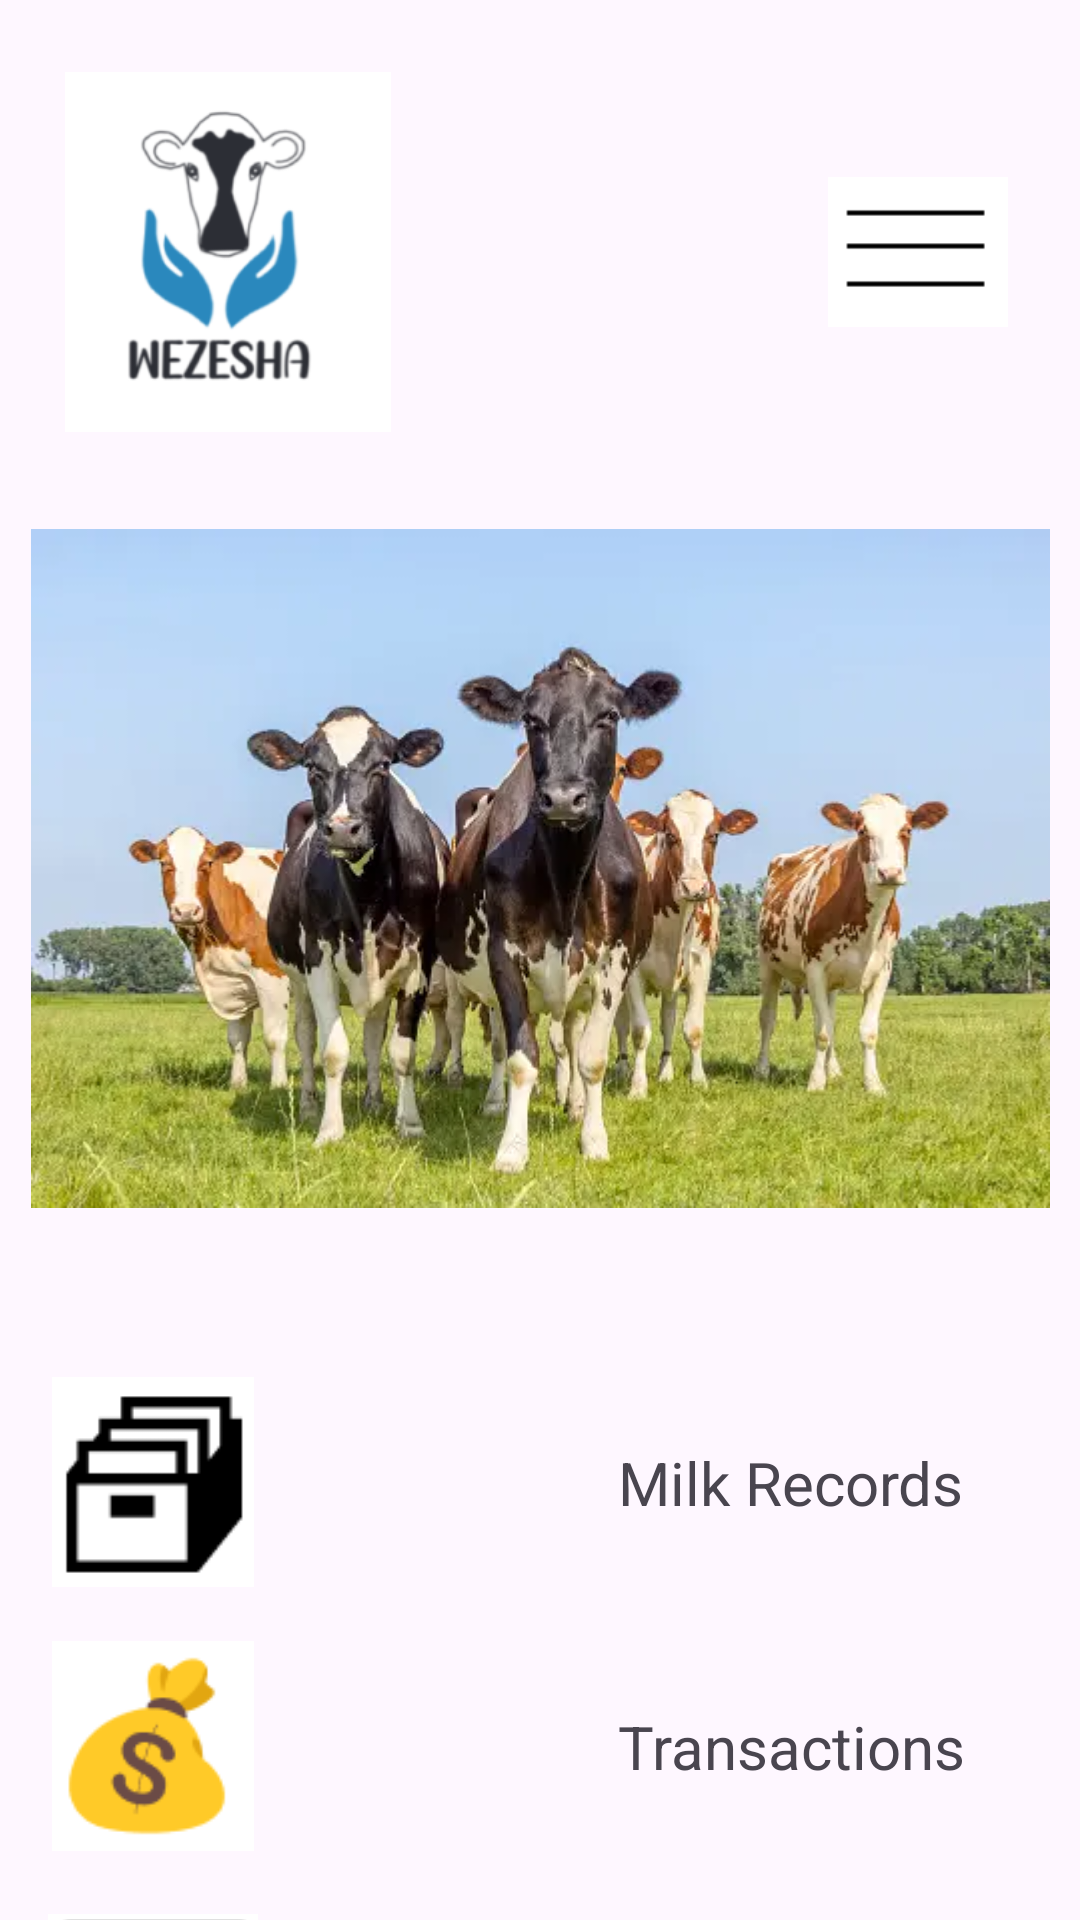

Icons on this 1080 x 1920 Android screen, each with its box as (x1, y1, x2, y2):
menu: (846, 210, 985, 287)
milkrecords: (66, 1396, 243, 1573)
transactions: (68, 1658, 226, 1835)
